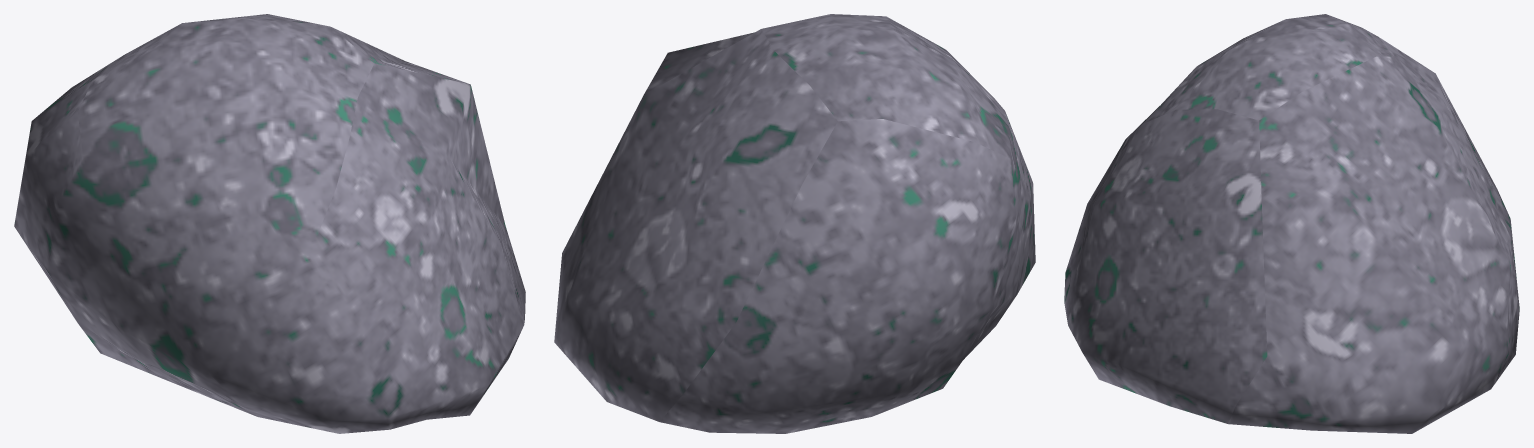
File: rock_1_big.fbx
3 views of the same model, side by side, from view 1: azimuth 30°, elevation 25°; view 2: azimuth 150°, elevation 25°; view 3: azimuth 270°, elevation 25° (orthographic). The views are drawn at different scales.
Parts seen in each view (by area): view 1: rock_1_big; view 2: rock_1_big; view 3: rock_1_big.
Boxes of the visible parts, box(x1,y1,x2,y2) form: rock_1_big: box(14, 14, 525, 433); rock_1_big: box(554, 14, 1035, 433); rock_1_big: box(1064, 14, 1519, 433).
Bounding box in the file's own units: 73.92 × 55.94 × 73.58.
